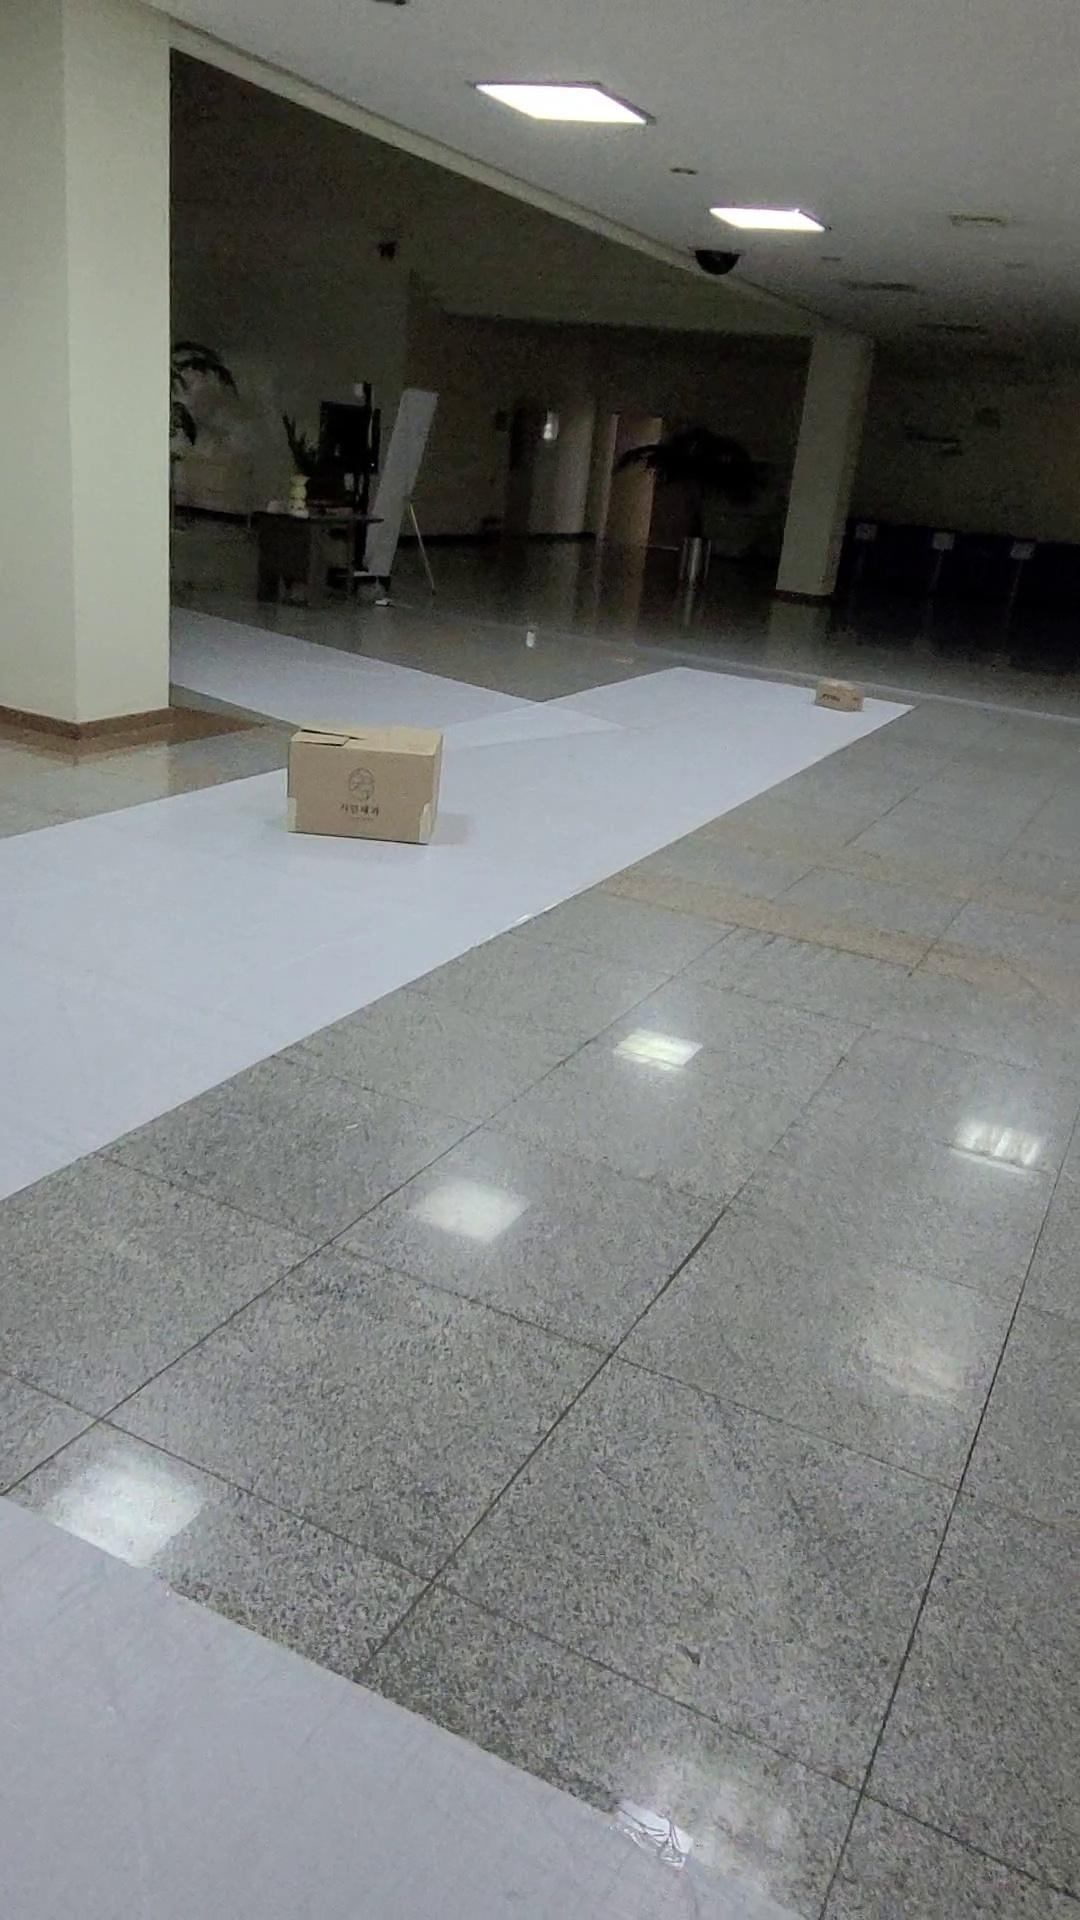Box: (251, 709, 469, 866), (796, 658, 887, 735)
